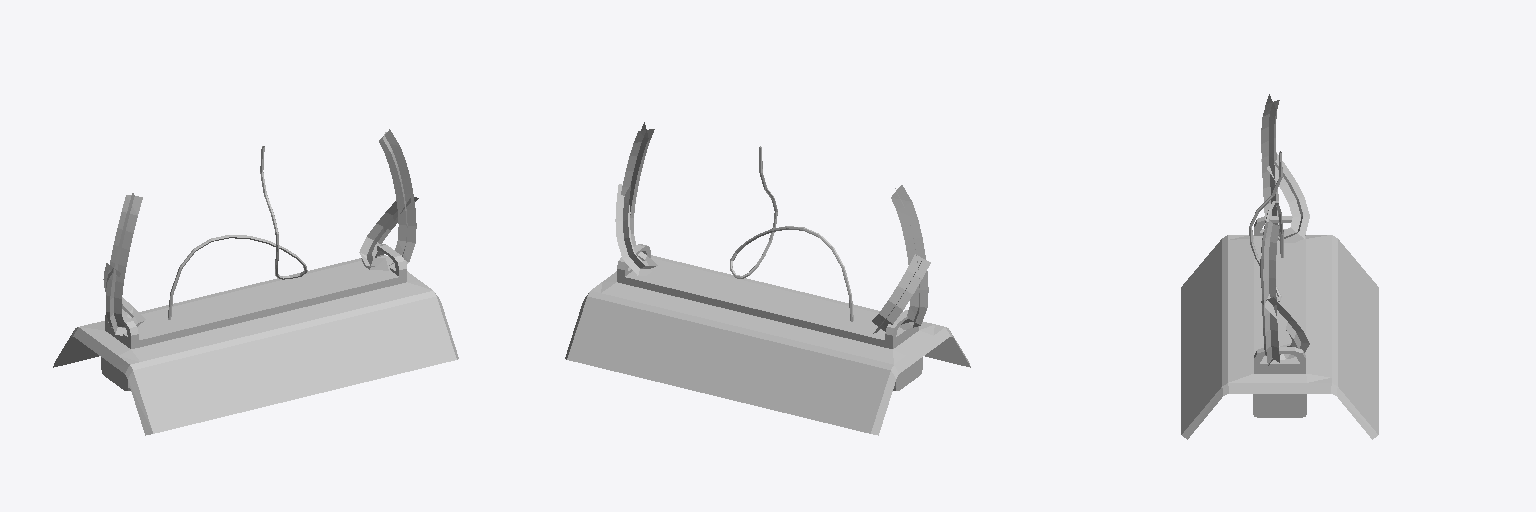
File: FluorescentLight.obj
The picture shows the model from 3 angles: view 1: azimuth 30°, elevation 25°; view 2: azimuth 150°, elevation 25°; view 3: azimuth 270°, elevation 25°; orthographic projection.
Parts seen in each view (by area): view 1: Object_2; view 2: Object_2; view 3: Object_2.
Part boxes in pixels (x1,y1,x2,y2): Object_2: (53, 129, 458, 435); Object_2: (565, 122, 970, 435); Object_2: (1181, 94, 1378, 439).
Size of the model in its own units: 2 by 1.31 by 1.09.